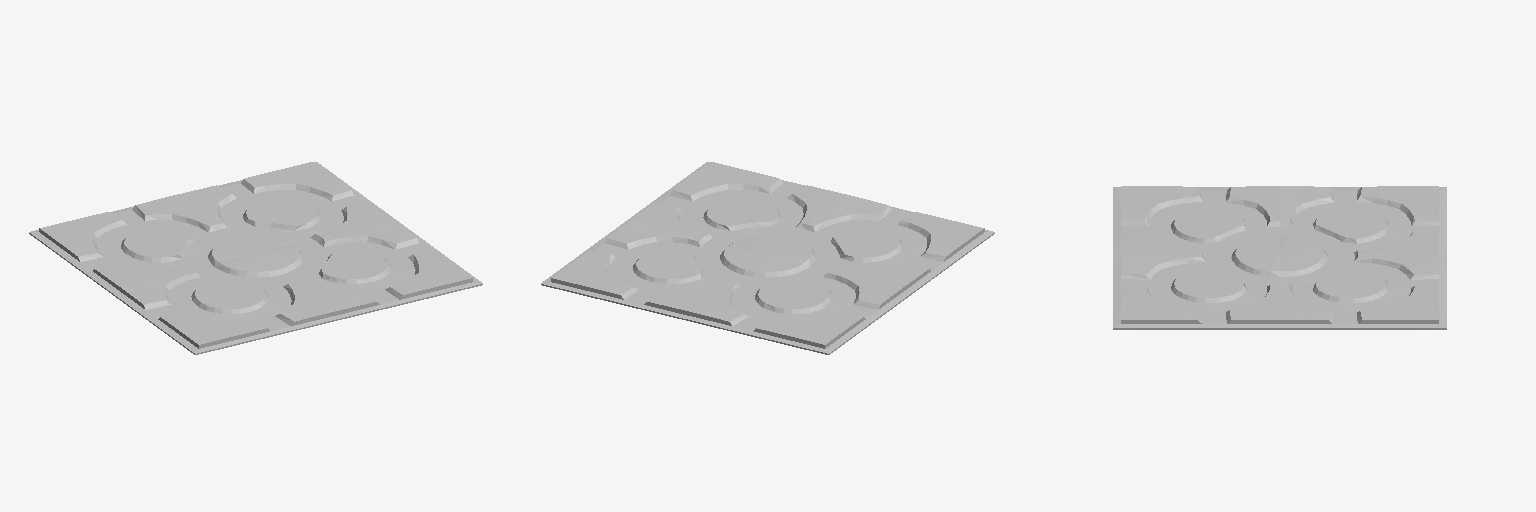
Rendered from Baldosa Bilbao.obj.
The picture shows the model from 3 angles: view 1: azimuth 30°, elevation 25°; view 2: azimuth 150°, elevation 25°; view 3: azimuth 270°, elevation 25°; orthographic projection.
Visible parts, largest first — view 1: Plane; view 2: Plane; view 3: Plane.
Boxes of the visible parts, x1,y1,x2,y2 form: Plane: [29, 162, 482, 354]; Plane: [541, 162, 994, 354]; Plane: [1113, 186, 1446, 329].
Size of the model in its own units: 9.88 by 0.2187 by 9.89.